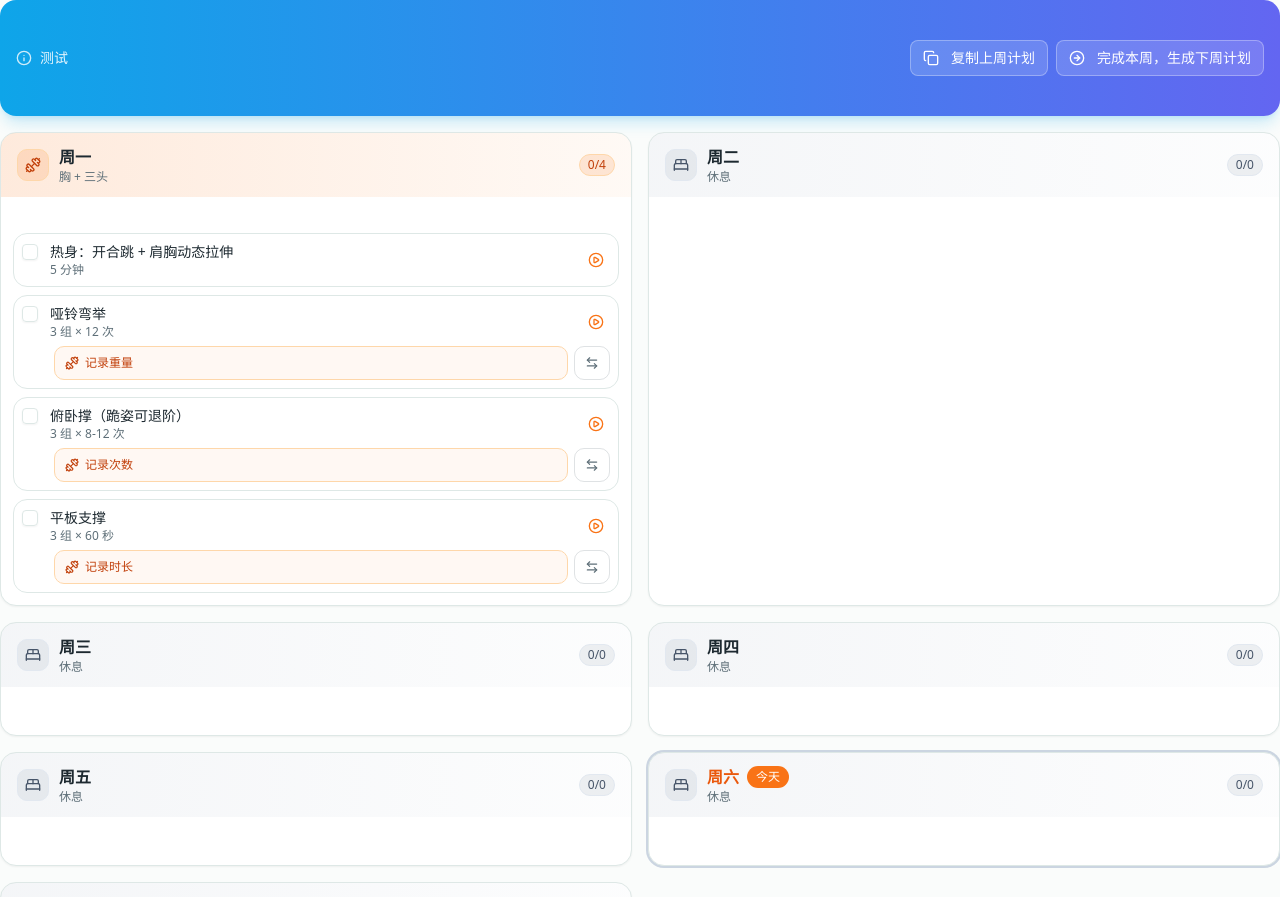
Scenario: 负重动作（哑铃弯举） › 校验：填完第 1 组但第 2 组还是 0，提示位置精确到第 2 组
Click the button "记录重量": click(109, 362) [54,346,568,380]
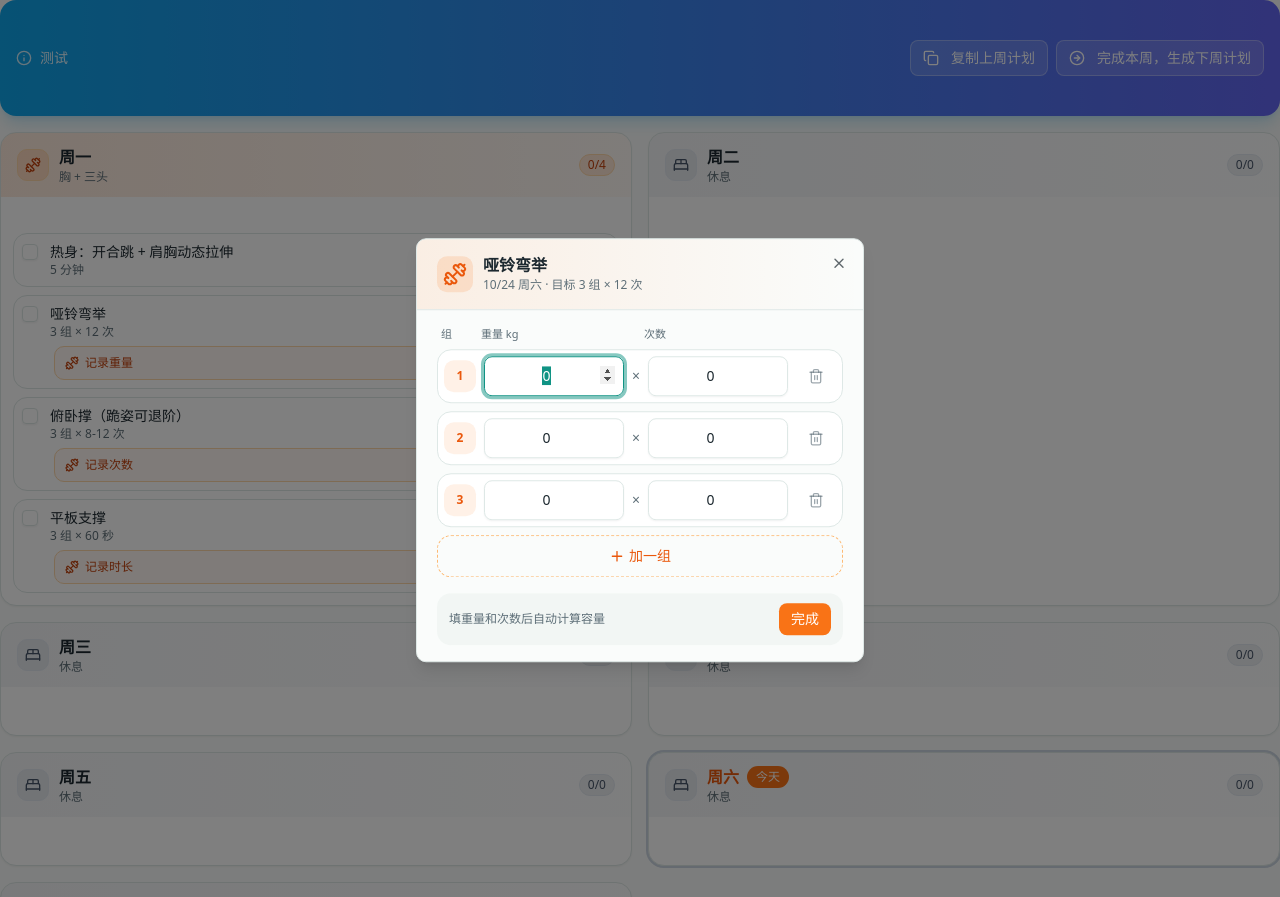
In the number field named "第 1 组重量（kg）": (554, 376) [484,356,624,396], type "12.5"
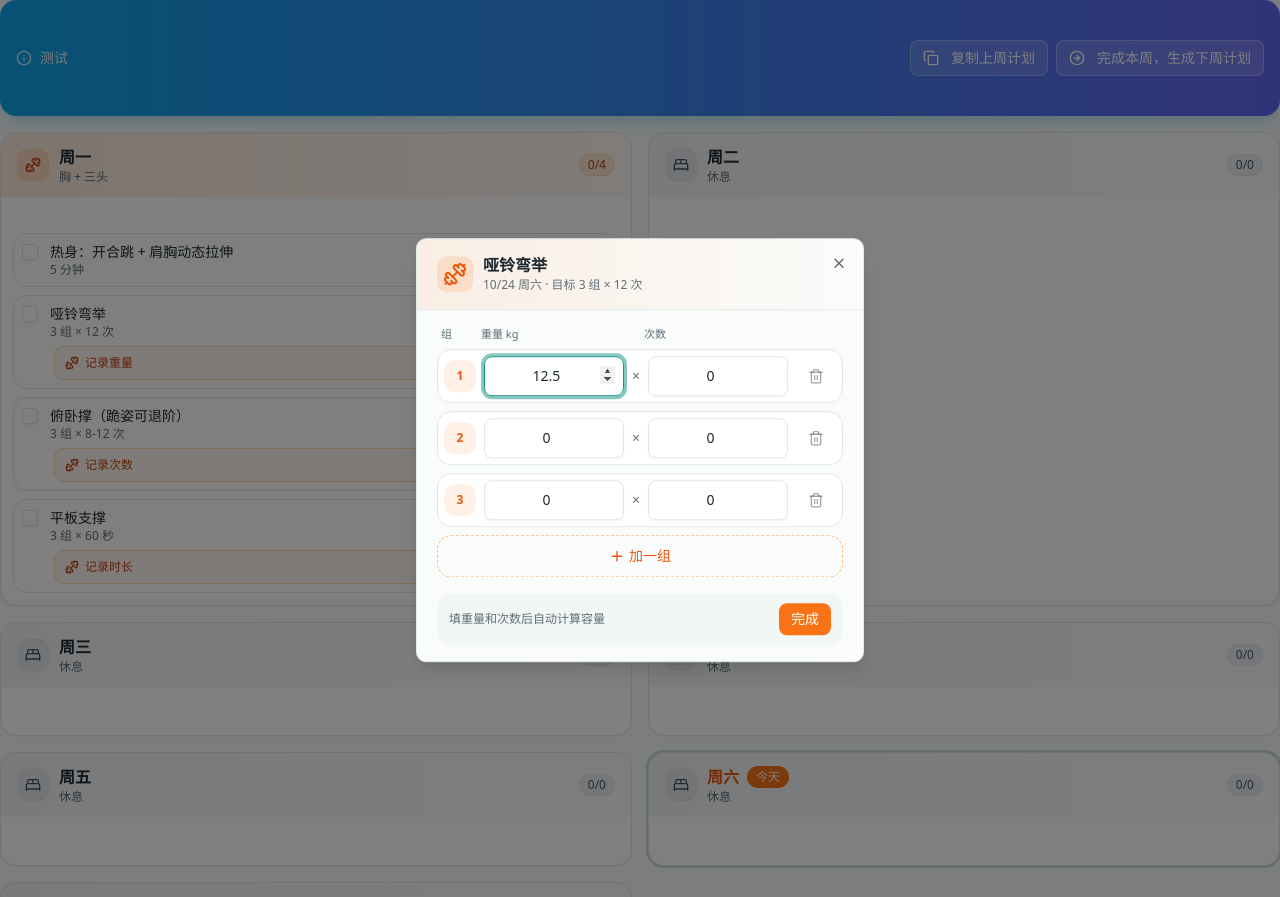
Replace the text in the number field named "第 1 组次数" with "10": (718, 376) [648,356,788,396]
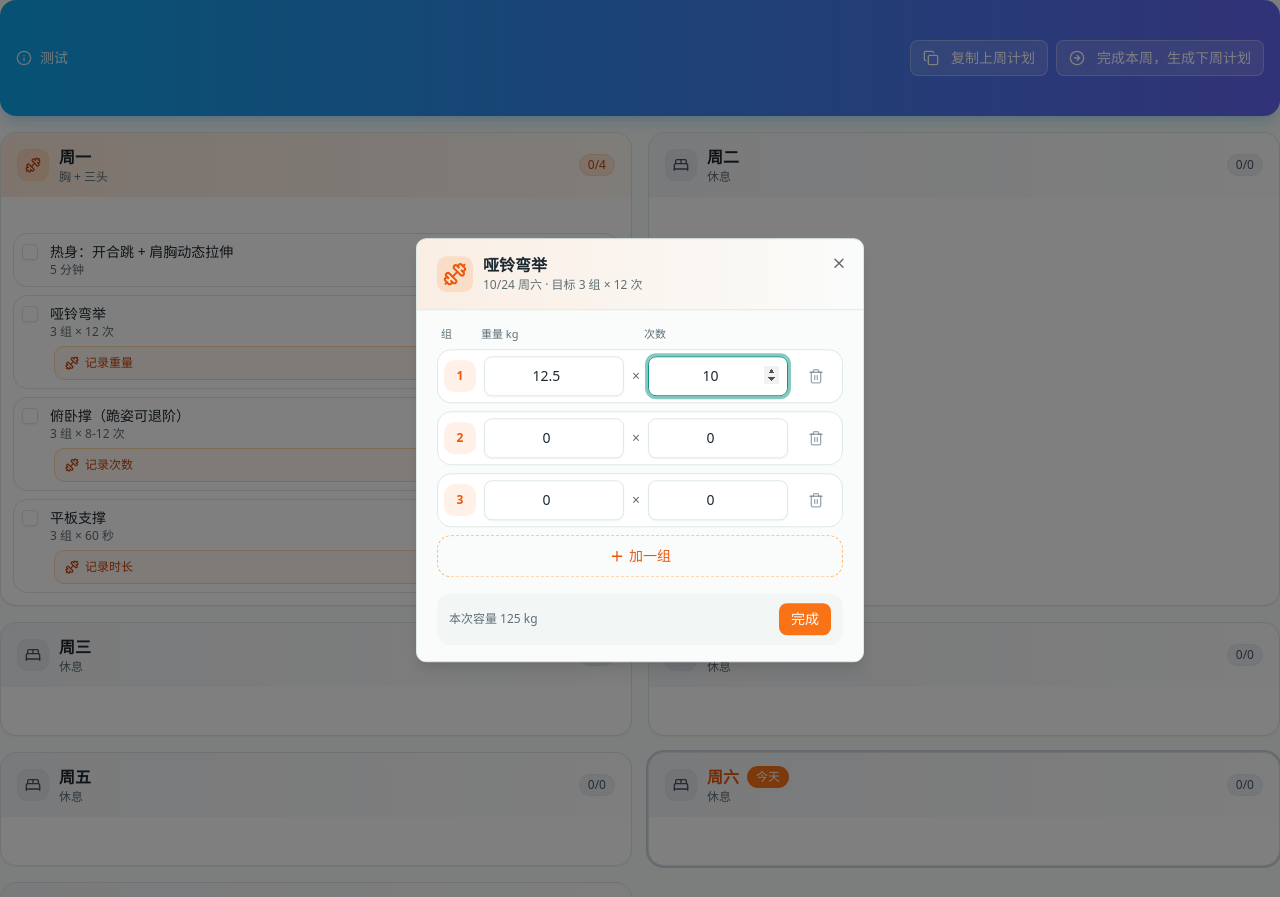
Click the button "完成": click(805, 619) [779,603,831,635]
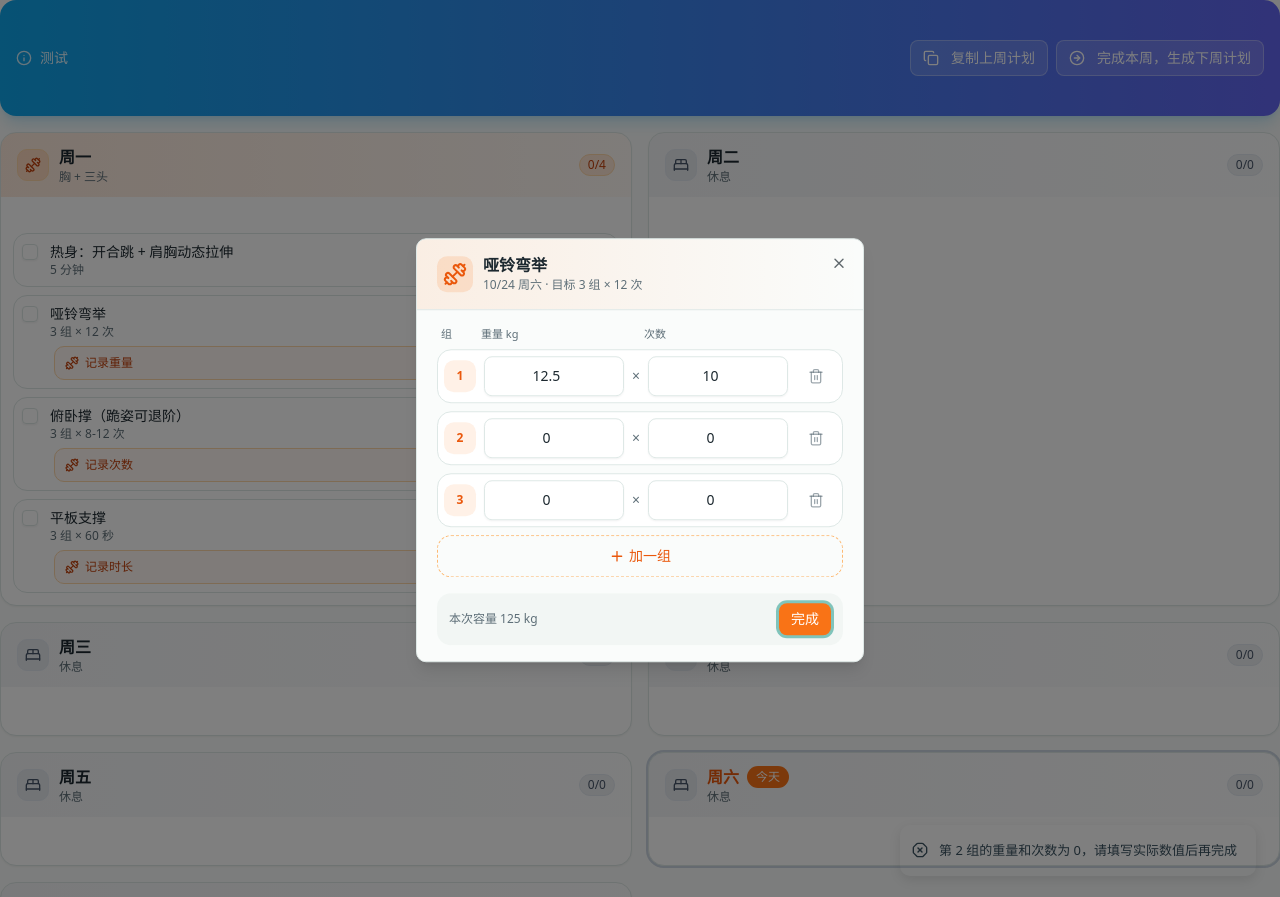
Expected: the text "第 2 组的重量和次数为 0，请填写实际数值后再完成" is shown, [939,840,1237,860]
